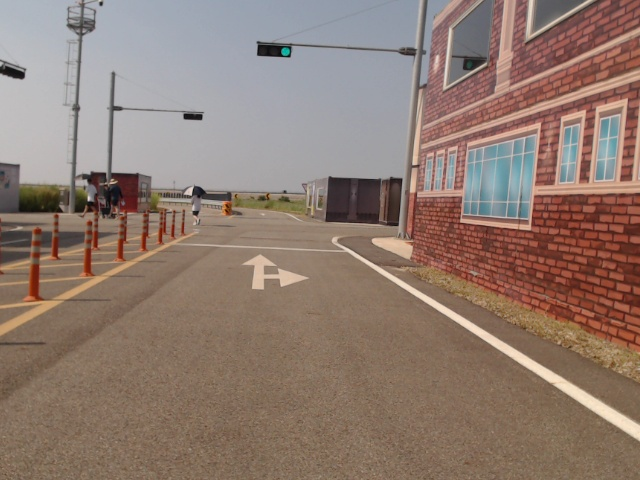green_3: (256, 44, 292, 58)
